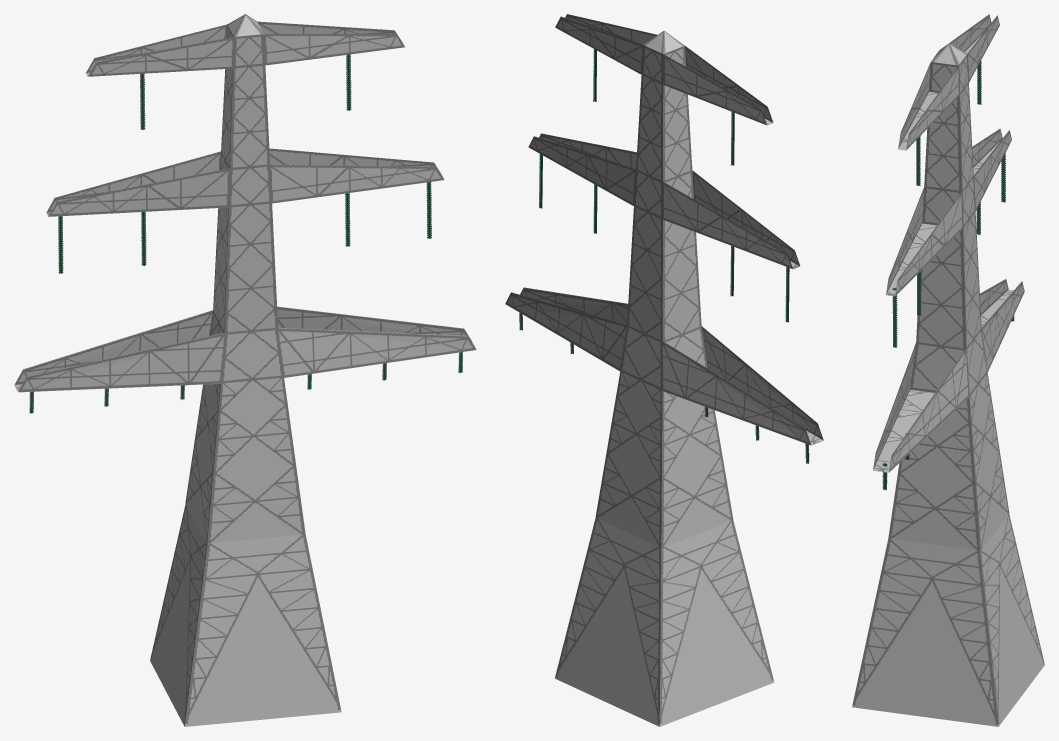
3 views of the same model, side by side, from view 1: azimuth 30°, elevation 25°; view 2: azimuth 150°, elevation 25°; view 3: azimuth 270°, elevation 25° (orthographic). The views are drawn at different scales.
Parts seen in each view (by area): view 1: SketchUp (×6); view 2: SketchUp (×5); view 3: SketchUp (×5).
Boxes of the visible parts, x1,y1,x2,y2 form: SketchUp (×6): (14,14,476,726); SketchUp (×5): (505,14,823,726); SketchUp (×5): (852,14,1044,726).
Size of the model in its own units: 1318 by 587 by 2159.
6 materials, 4 textured.
